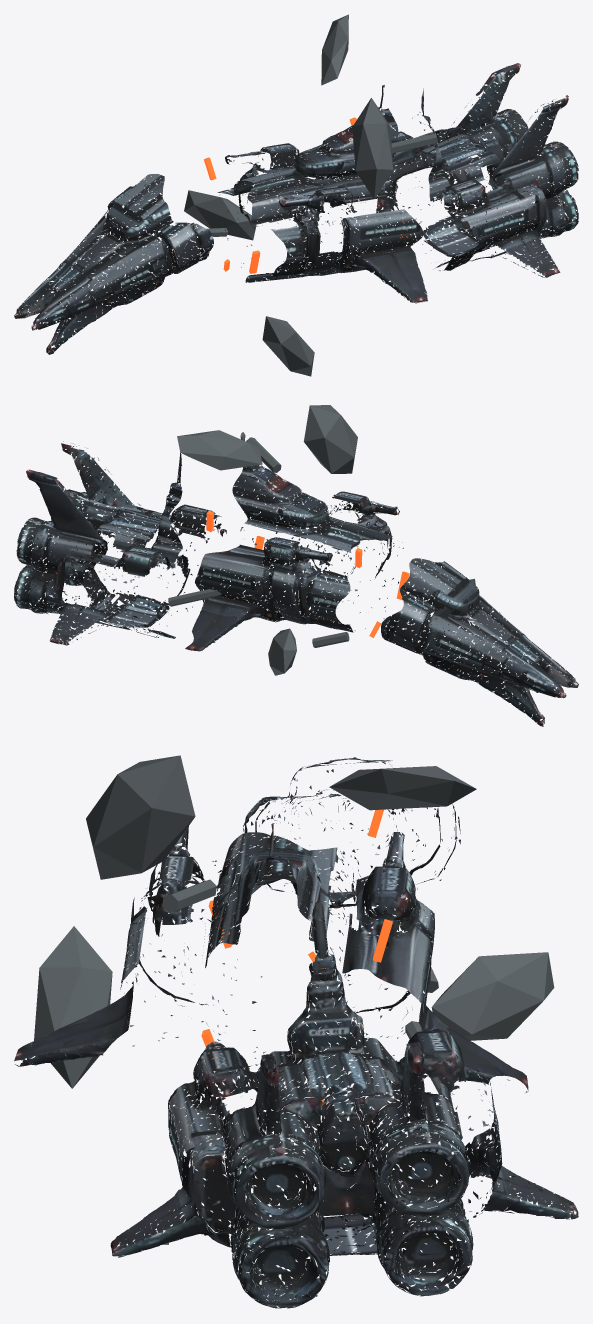
The model's file is concord-battleship-wreck.glb.
The picture shows the model from 3 angles, top to bottom: view 1: azimuth 30°, elevation 25°; view 2: azimuth 150°, elevation 25°; view 3: azimuth 270°, elevation 25°; orthographic projection. The views are drawn at different scales.
Parts seen in each view (by area): view 1: Battleship wreck forward section, Battleship wreck midsection, Battleship wreck engine section, Detached armor shard 2, Detached armor shard 1, Detached armor shard 4, Detached armor shard 3, Battleship torn frame 2; view 2: Battleship wreck forward section, Battleship wreck midsection, Battleship wreck engine section, Detached armor shard 2, Detached armor shard 3, Detached armor shard 1, Battleship torn frame 3; view 3: Battleship wreck forward section, Battleship wreck midsection, Detached armor shard 2, Detached armor shard 1, Detached armor shard 4, Detached armor shard 3, Battleship wreck engine section, Battleship torn frame 2.
Part boxes in pixels (bbox=[...]): Battleship wreck forward section: bbox=[376, 63, 578, 277]; Battleship wreck midsection: bbox=[211, 85, 427, 303]; Battleship wreck engine section: bbox=[14, 174, 213, 354]; Detached armor shard 2: bbox=[352, 98, 393, 199]; Detached armor shard 1: bbox=[184, 190, 257, 240]; Detached armor shard 4: bbox=[262, 316, 314, 376]; Detached armor shard 3: bbox=[321, 14, 348, 85]; Battleship torn frame 2: bbox=[391, 133, 438, 153]; Battleship wreck forward section: bbox=[14, 441, 221, 645]; Battleship wreck midsection: bbox=[185, 432, 403, 651]; Battleship wreck engine section: bbox=[381, 558, 578, 726]; Detached armor shard 2: bbox=[303, 405, 357, 473]; Detached armor shard 3: bbox=[177, 430, 262, 470]; Detached armor shard 1: bbox=[268, 628, 296, 675]; Battleship torn frame 3: bbox=[168, 588, 221, 606]; Battleship wreck forward section: bbox=[110, 899, 578, 1308]; Battleship wreck midsection: bbox=[14, 820, 528, 1092]; Detached armor shard 2: bbox=[86, 755, 195, 879]; Detached armor shard 1: bbox=[431, 952, 554, 1040]; Detached armor shard 4: bbox=[34, 926, 112, 1088]; Detached armor shard 3: bbox=[329, 766, 476, 810]; Battleship wreck engine section: bbox=[243, 757, 460, 914]; Battleship torn frame 2: bbox=[162, 879, 216, 912].
Bounding box in the file's own units: 2.23 × 0.9927 × 1.17.
3 materials, 1 textured.
